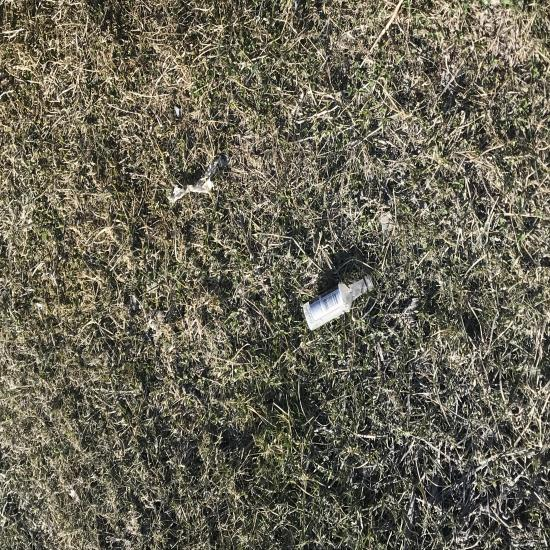Disposable food container: (94, 42, 257, 187)
Other plastic: (282, 146, 378, 250)
